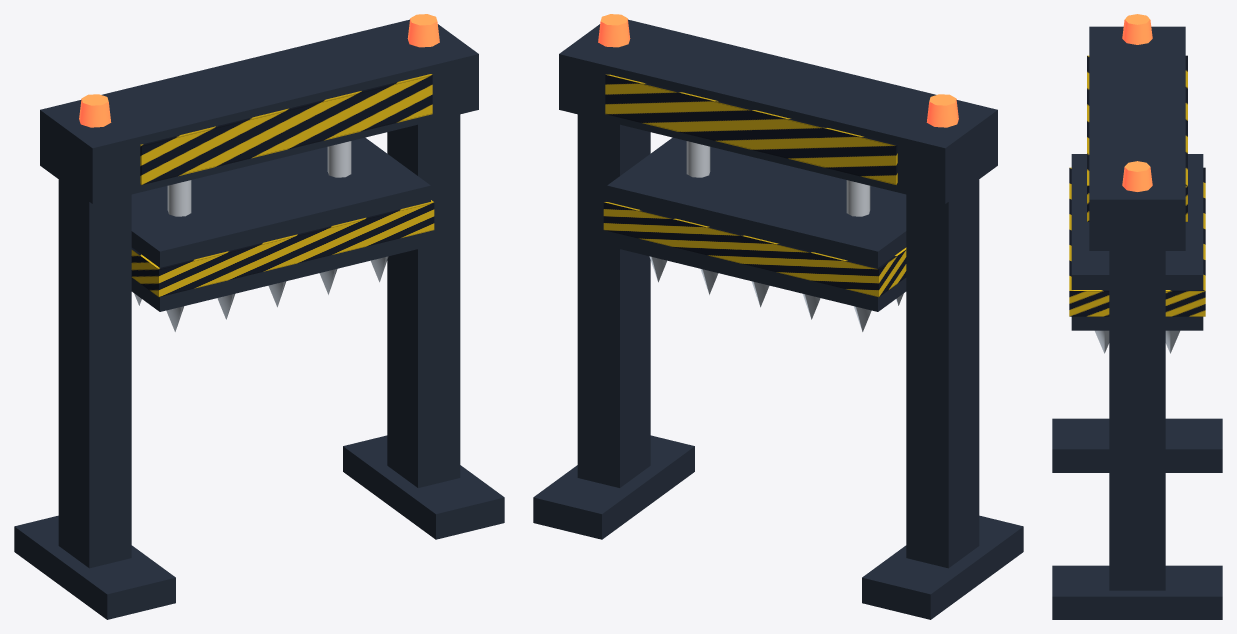
File: crusher.glb
The picture shows the model from 3 angles, left to right: view 1: azimuth 30°, elevation 25°; view 2: azimuth 150°, elevation 25°; view 3: azimuth 270°, elevation 25°; orthographic projection. The views are drawn at different scales.
Visible parts, largest first — view 1: crusher, crusher_head, pistons; view 2: crusher, crusher_head, pistons; view 3: crusher, crusher_head.
Part boxes in pixels (x1,y1,x2,y2): crusher: (14,14,504,619); crusher_head: (131,137,434,331); pistons: (167,141,351,216); crusher: (533,14,1023,619); crusher_head: (603,137,906,331); pistons: (686,141,870,216); crusher: (1052,14,1222,619); crusher_head: (1069,154,1205,353).
Size of the model in its own units: 3.58 by 4.11 by 1.45.
Materials: 5 (1 with a texture image).
